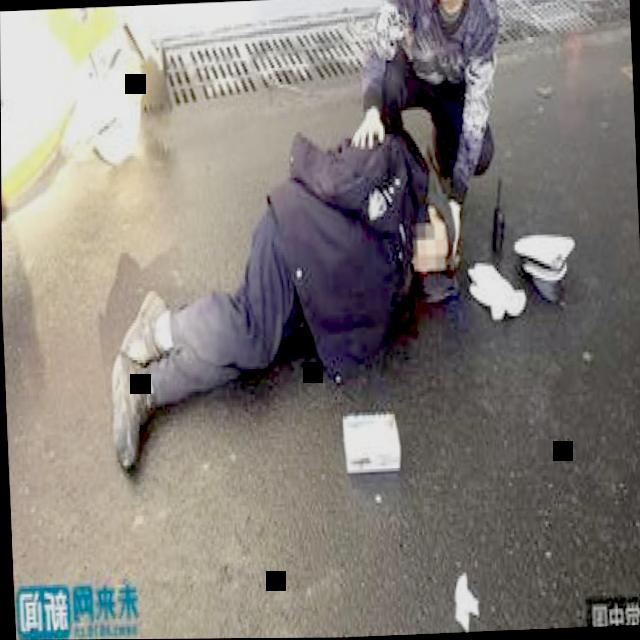Fall-Detected: (95, 108, 477, 488)
